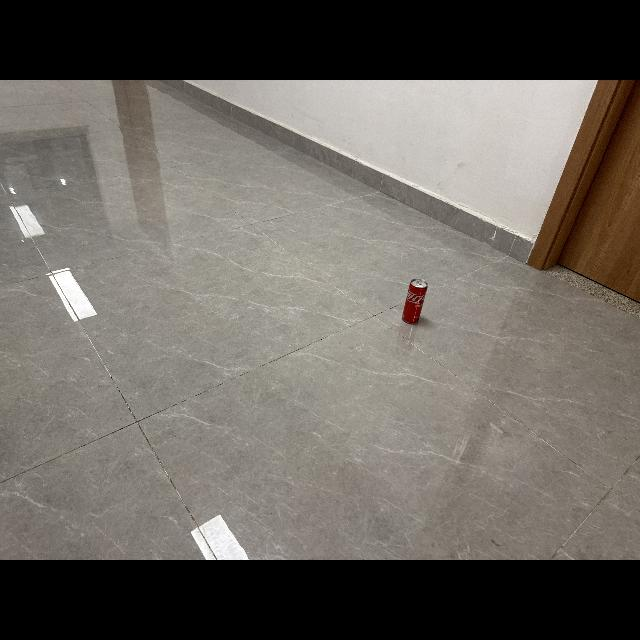Cola: (400, 276, 430, 326)
